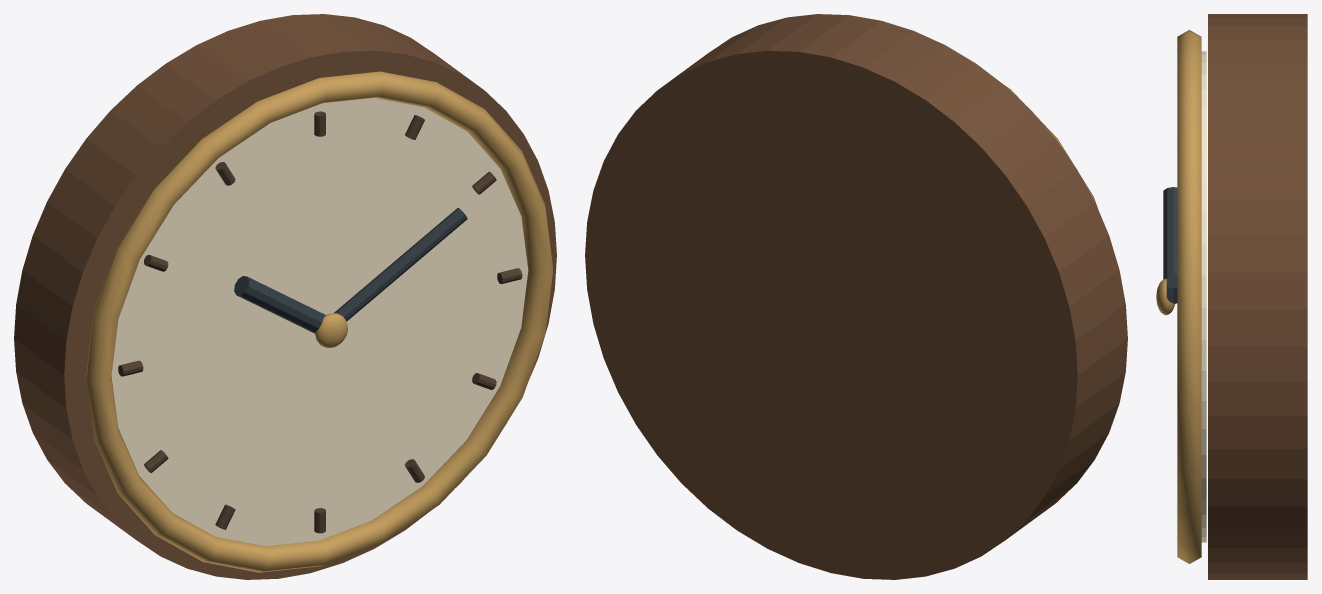
The picture shows the model from 3 angles, left to right: view 1: azimuth 30°, elevation 25°; view 2: azimuth 150°, elevation 25°; view 3: azimuth 270°, elevation 25°; orthographic projection.
Visible parts, largest first — view 1: workshop_paper, workshop_wood_dark, workshop_brass, workshop_steel_dark, workshop_ink; view 2: workshop_wood_dark; view 3: workshop_wood_dark, workshop_brass, workshop_paper, workshop_steel_dark.
Boxes of the visible parts, bbox=[...] form: workshop_paper: bbox=[111, 98, 528, 546]; workshop_wood_dark: bbox=[14, 14, 556, 579]; workshop_brass: bbox=[86, 71, 552, 572]; workshop_steel_dark: bbox=[234, 208, 467, 333]; workshop_ink: bbox=[118, 111, 522, 533]; workshop_wood_dark: bbox=[585, 14, 1127, 579]; workshop_wood_dark: bbox=[1208, 14, 1307, 579]; workshop_brass: bbox=[1156, 30, 1201, 563]; workshop_paper: bbox=[1201, 51, 1206, 542]; workshop_steel_dark: bbox=[1163, 187, 1177, 303].
Bounding box in the file's own units: 0.68 × 0.68 × 0.182.
